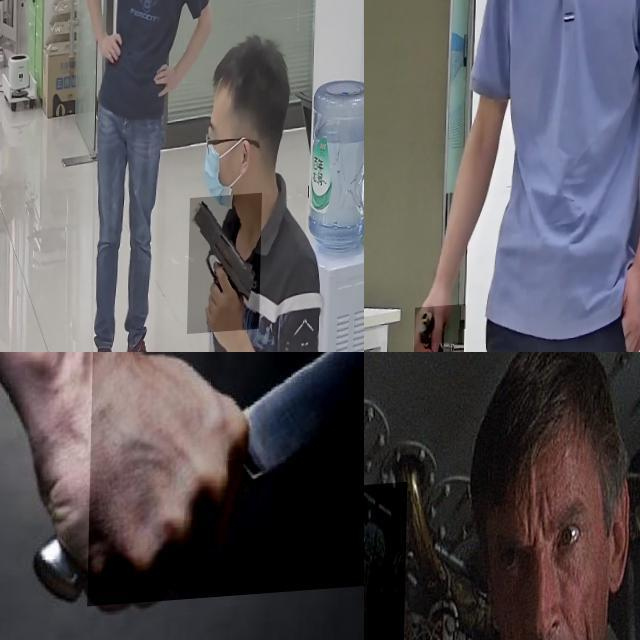-: (89, 352, 364, 611)
gun-knife-thesis - v11 Yolov5 augmented: (364, 486, 519, 640), (188, 199, 264, 340), (413, 308, 466, 352)
